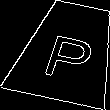P_N: (38, 23, 98, 81)
